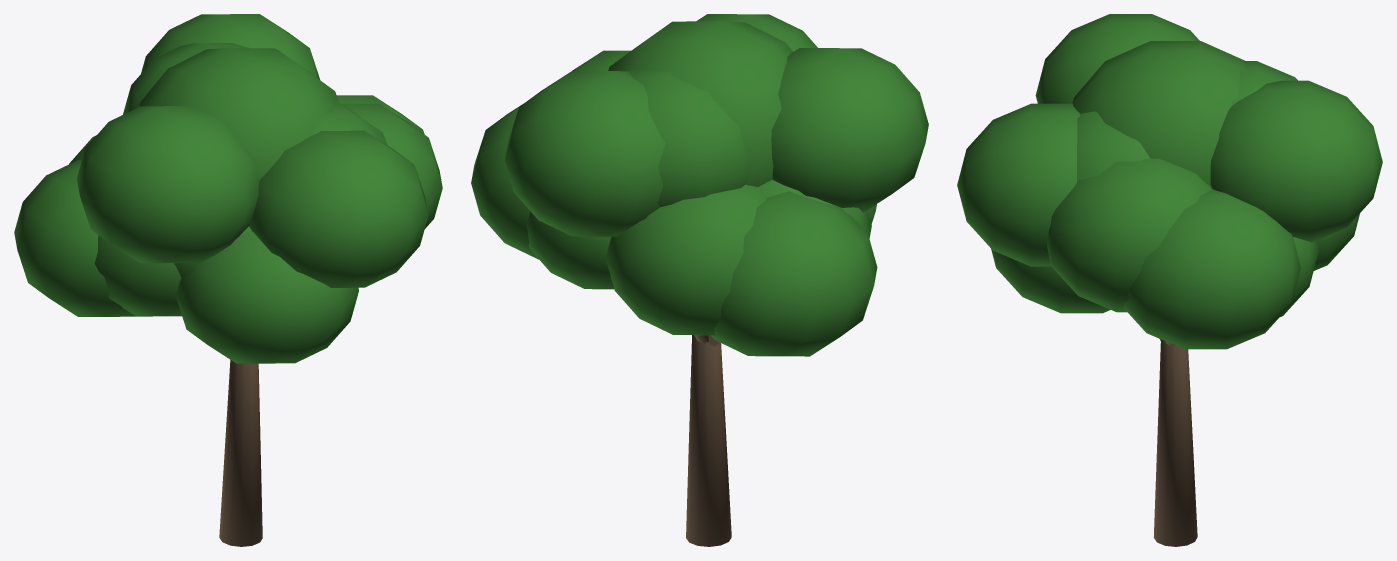
Rendered from Oak0.glb.
3 renders of one model, left to right at view 1: azimuth 30°, elevation 25°; view 2: azimuth 150°, elevation 25°; view 3: azimuth 270°, elevation 25°, orthographic. The views are drawn at different scales.
Parts seen in each view (by area): view 1: Oak0; view 2: Oak0; view 3: Oak0.
Boxes of the visible parts, x1,y1,x2,y2 form: Oak0: (14, 14, 442, 546); Oak0: (471, 14, 928, 546); Oak0: (957, 14, 1382, 546).
Size of the model in its own units: 6.2 by 7.57 by 6.01.
